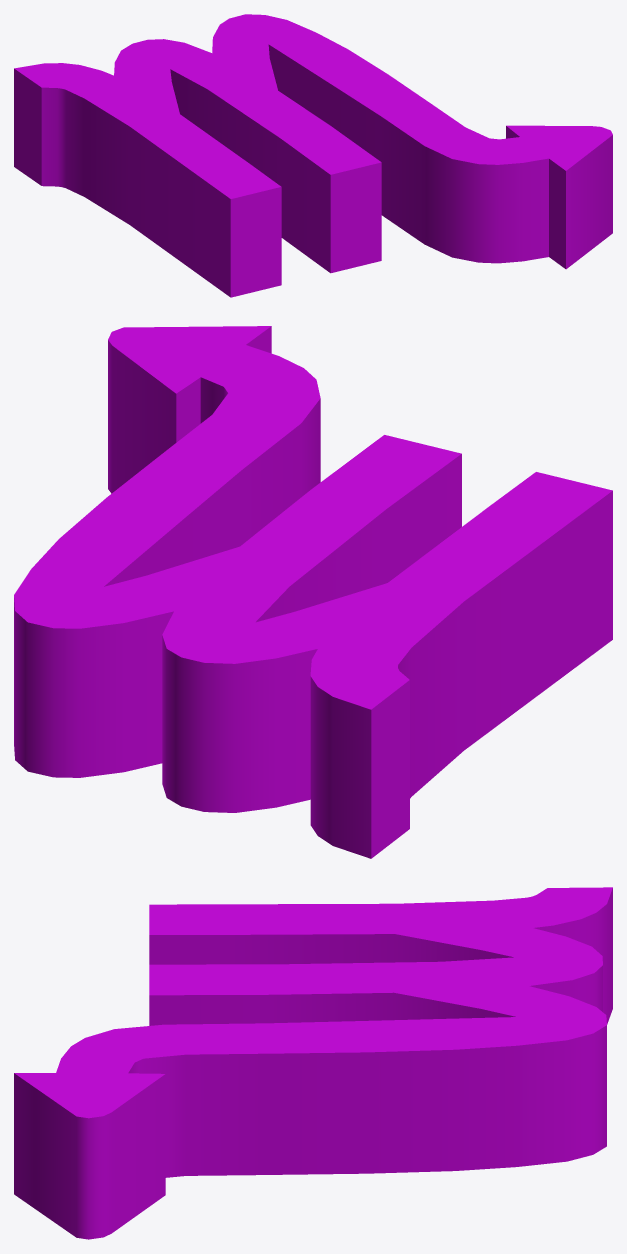
Rendered from scorpio.fbx.
The picture shows the model from 3 angles, top to bottom: view 1: azimuth 30°, elevation 25°; view 2: azimuth 150°, elevation 25°; view 3: azimuth 270°, elevation 25°; orthographic projection. The views are drawn at different scales.
Visible parts, largest first — view 1: 8.SCORPIO; view 2: 8.SCORPIO; view 3: 8.SCORPIO.
Boxes of the visible parts, x1,y1,x2,y2 form: 8.SCORPIO: [14, 14, 612, 297]; 8.SCORPIO: [14, 326, 612, 858]; 8.SCORPIO: [14, 887, 612, 1239].
Size of the model in its own units: 145 by 35.49 by 159.
